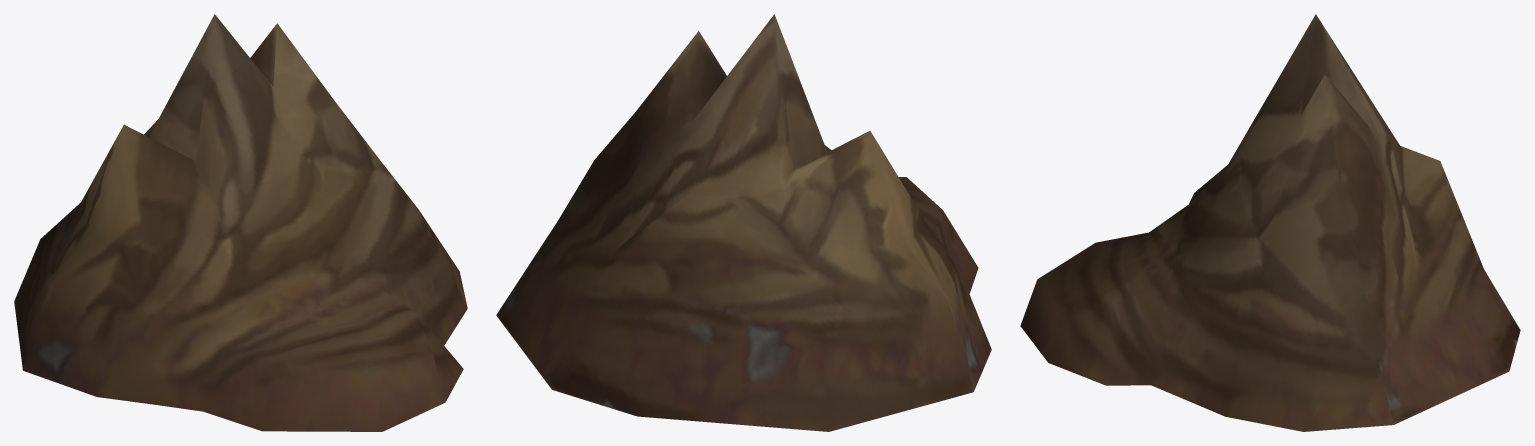
The model's file is Battle02_Stone_03.FBX.
The picture shows the model from 3 angles, left to right: view 1: azimuth 30°, elevation 25°; view 2: azimuth 150°, elevation 25°; view 3: azimuth 270°, elevation 25°; orthographic projection. The views are drawn at different scales.
Parts seen in each view (by area): view 1: Battle02_Stone_03; view 2: Battle02_Stone_03; view 3: Battle02_Stone_03.
Part boxes in pixels (x1=…): Battle02_Stone_03: x1=14, y1=14, x2=467, y2=431; Battle02_Stone_03: x1=496, y1=14, x2=991, y2=431; Battle02_Stone_03: x1=1020, y1=14, x2=1520, y2=431.
Size of the model in its own units: 3.45 by 2.39 by 3.56.
